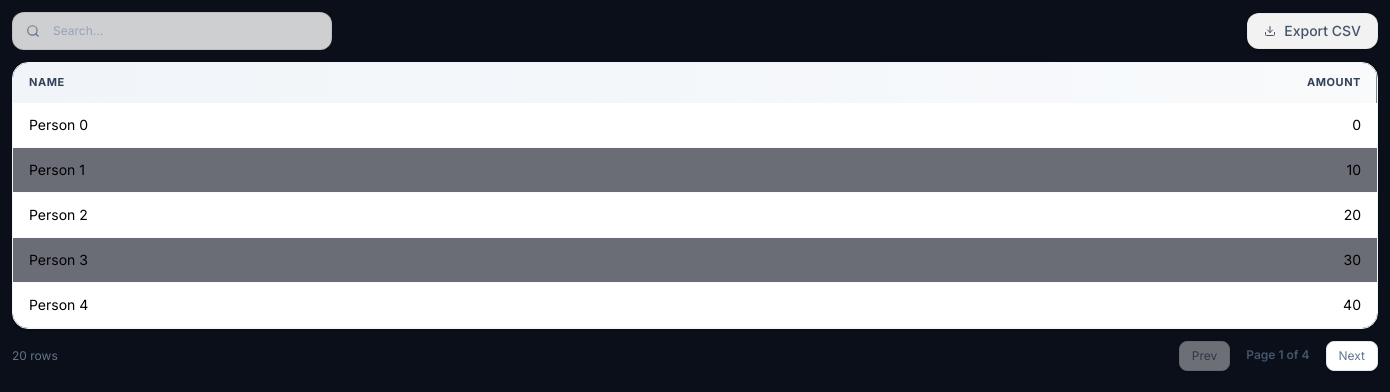
Scenario: DataTable › search resets page to 0
First navigate to page 2
Click the button "Next" at (1352, 356), box x1=1326 y1=341 x2=1378 y2=371
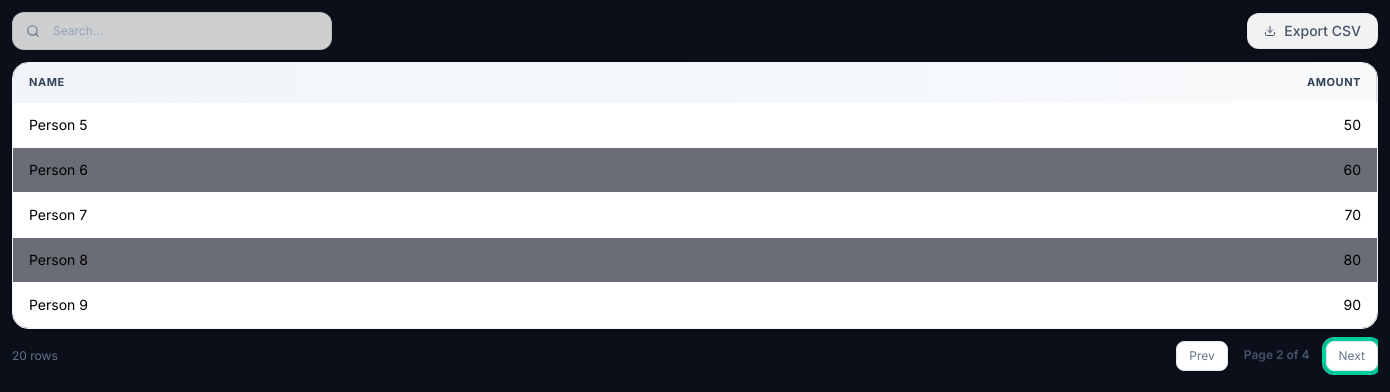
Expected: the text "Page 2 of 4" is shown, x1=1244 y1=347 x2=1310 y2=362
Then search — should reset to page 1
Type "Person 1" into the field with placeholder "Search..." at (172, 31), box x1=12 y1=12 x2=332 y2=50
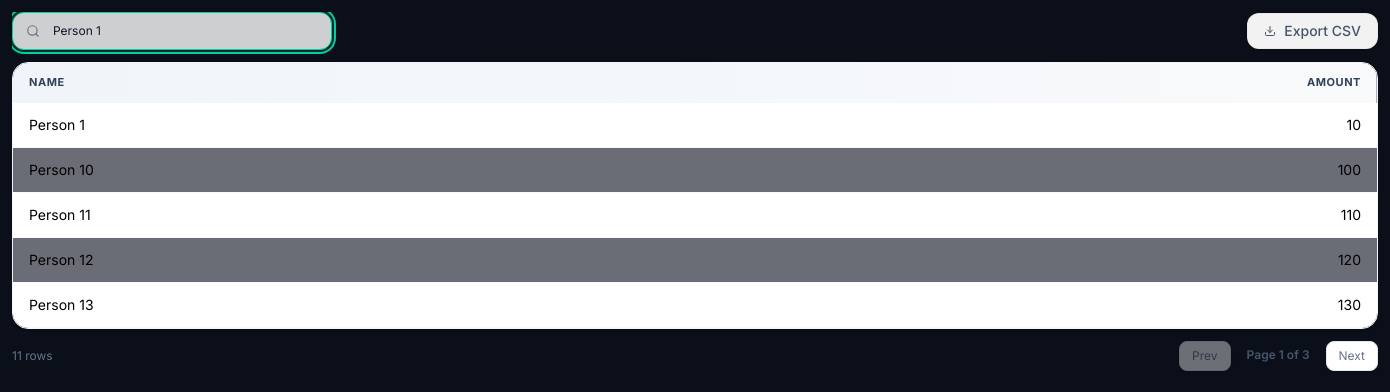
Expected: the text "Page 2" is gone
